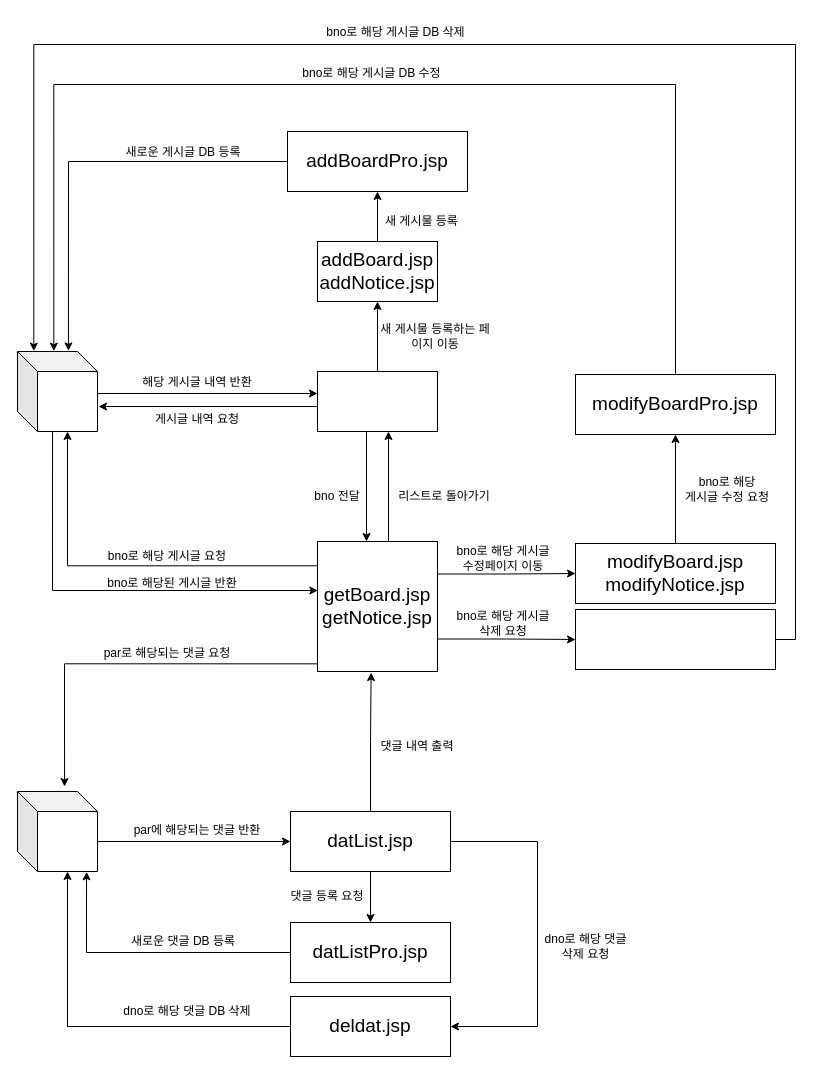
Some shapes in this 821 by 1074 pixel diagram are drawn without their labels. Here are the shapes that lost their labels. From the top down, the centre of each, then its label:
(57,391): board
(377,401): listBoard.jsp listNotice.jsp
(675,639): removeBoardPro.jsp
(57,831): dat
